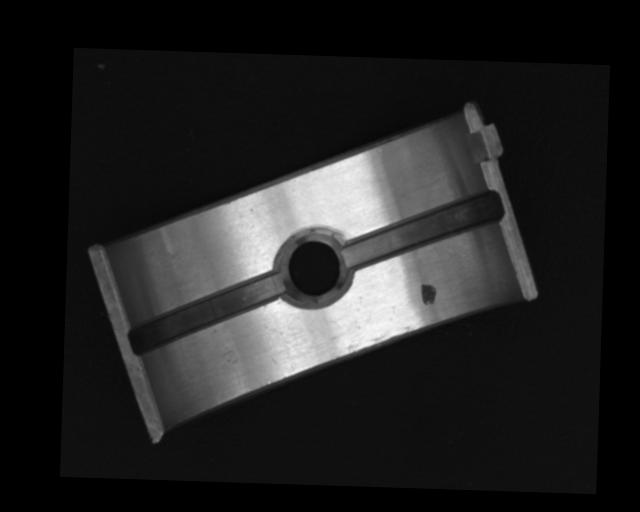blot: (420, 280, 437, 306)
gap: (126, 265, 286, 359), (344, 185, 501, 277)
hole: (281, 227, 347, 303)
